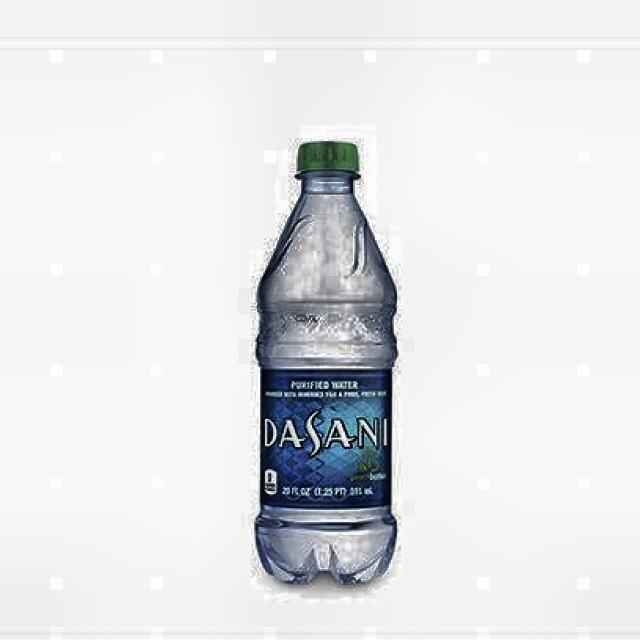plastic bottle: (256, 141, 397, 585)
